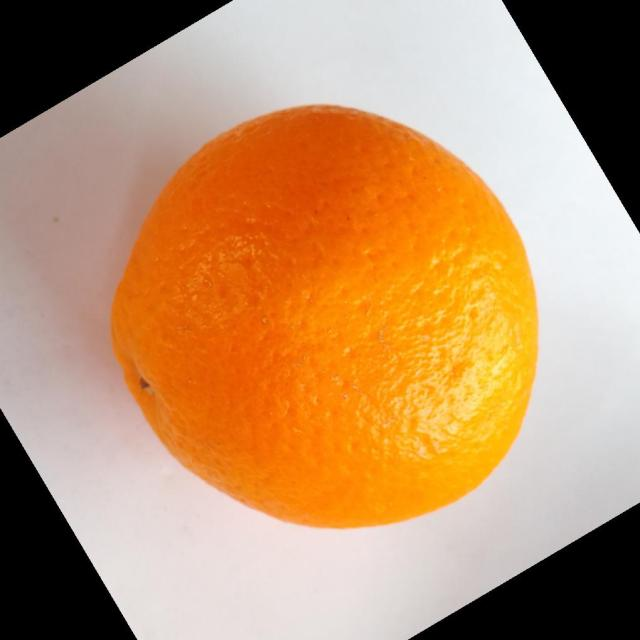fresh orange: (108, 102, 540, 530)
